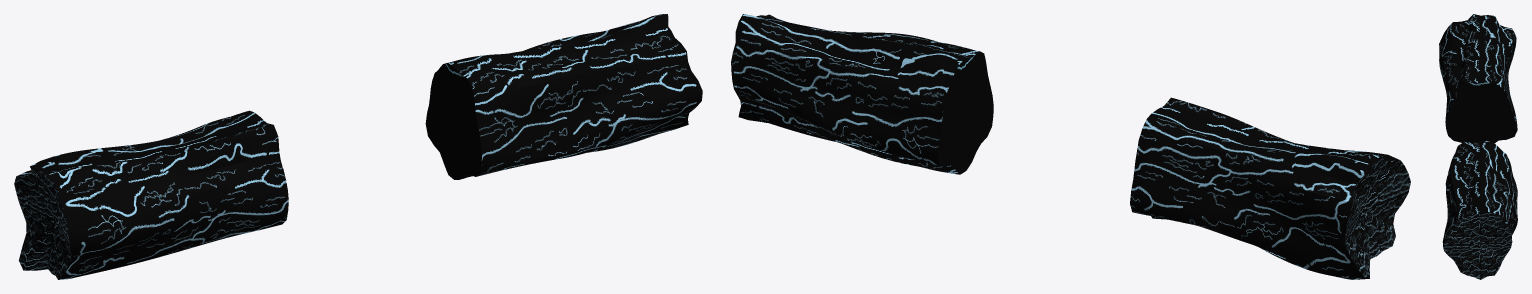
The model's file is brevno_cutted.fbx.
3 renders of one model, left to right at view 1: azimuth 30°, elevation 25°; view 2: azimuth 150°, elevation 25°; view 3: azimuth 270°, elevation 25°, orthographic. The views are drawn at different scales.
Visible parts, largest first — view 1: Boole; view 2: Boole; view 3: Boole.
Boxes of the visible parts, bbox=[...] form: Boole: bbox=[14, 14, 702, 279]; Boole: bbox=[731, 14, 1410, 279]; Boole: bbox=[1439, 14, 1517, 279].
Size of the model in its own units: 681 by 120 by 114.
Materials: 2 (2 with a texture image).
